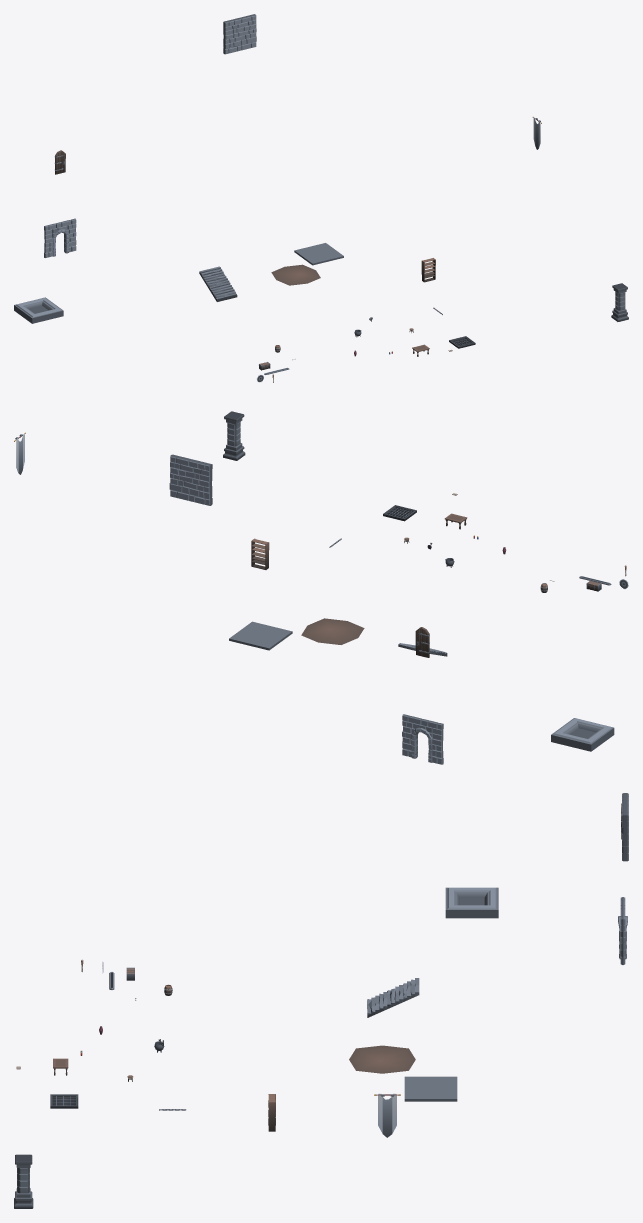
Rendered from DungeonPackLite.fbx.
3 renders of one model, top to bottom at view 1: azimuth 30°, elevation 25°; view 2: azimuth 150°, elevation 25°; view 3: azimuth 270°, elevation 25°, orthographic. The views are drawn at different scales.
Visible parts, largest first — view 1: Wall_Chiseled, Wall_DoorStand, Ceiling_SquareLarge, Stair, Sand_B, Floor_Flat; view 2: Wall_Chiseled, Wall_DoorStand, Ceiling_SquareLarge, Sand_B, Floor_Flat, Column_Half, Shelf_Framed; view 3: Ceiling_SquareLarge, Sand_B, Floor_Flat, Stair, Column_Half, Flag.004.
Boxes of the visible parts, <box> form: Wall_Chiseled: <box>223,14,256,54</box>; Wall_DoorStand: <box>44,218,76,257</box>; Ceiling_SquareLarge: <box>14,297,63,323</box>; Stair: <box>199,266,237,301</box>; Sand_B: <box>271,264,320,285</box>; Floor_Flat: <box>294,243,343,265</box>; Wall_Chiseled: <box>169,454,212,505</box>; Wall_DoorStand: <box>402,714,443,764</box>; Ceiling_SquareLarge: <box>551,718,614,751</box>; Sand_B: <box>301,618,364,644</box>; Floor_Flat: <box>229,621,292,650</box>; Column_Half: <box>223,411,245,460</box>; Shelf_Framed: <box>251,538,269,569</box>; Ceiling_SquareLarge: <box>445,887,498,918</box>; Sand_B: <box>349,1045,415,1073</box>; Floor_Flat: <box>404,1076,457,1101</box>; Stair: <box>367,978,419,1017</box>; Column_Half: <box>14,1154,33,1208</box>; Flag.004: <box>374,1093,400,1137</box>.
Bounding box in the file's own units: 74.79 × 28.57 × 56.28.
